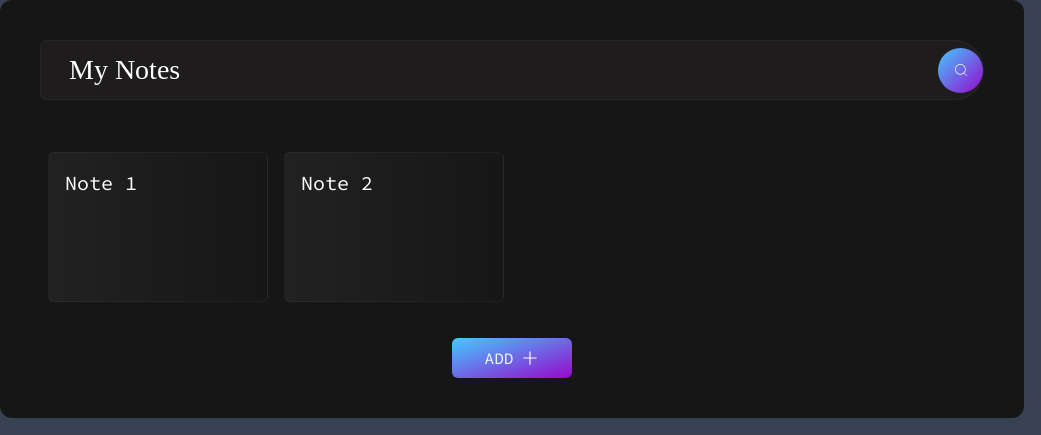
Notes › toggles search input
Click the button: (960, 70) x1=938 y1=48 x2=983 y2=92
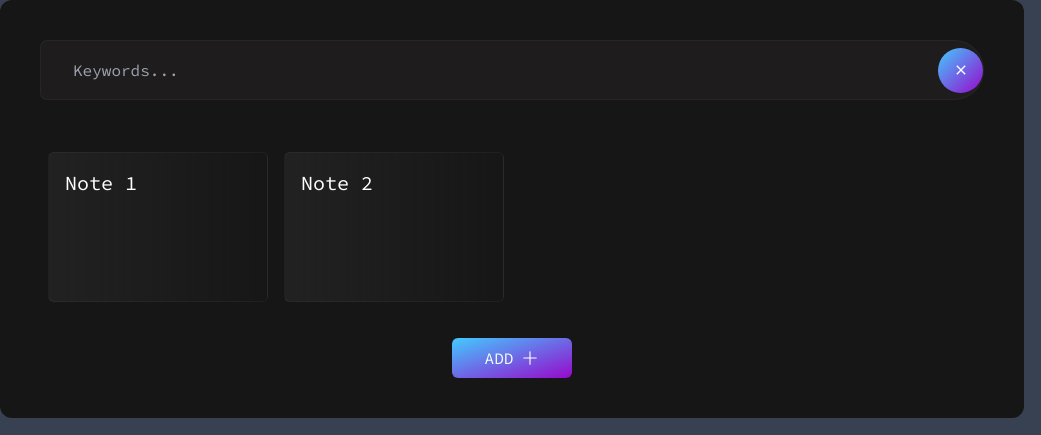
Expected: the field with placeholder "Keywords..." is shown, x1=49 y1=47 x2=609 y2=93
Click the button: (960, 70) x1=938 y1=48 x2=983 y2=92
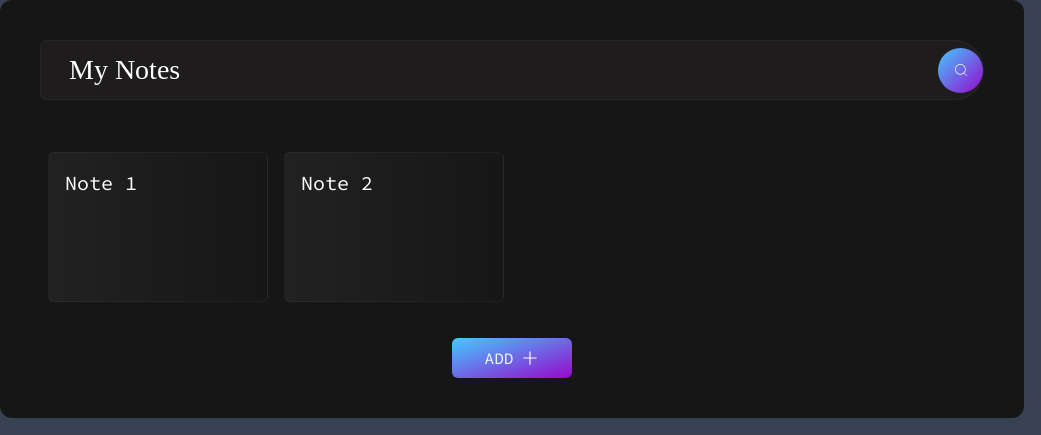
Expected: the field with placeholder "Keywords..." is gone
